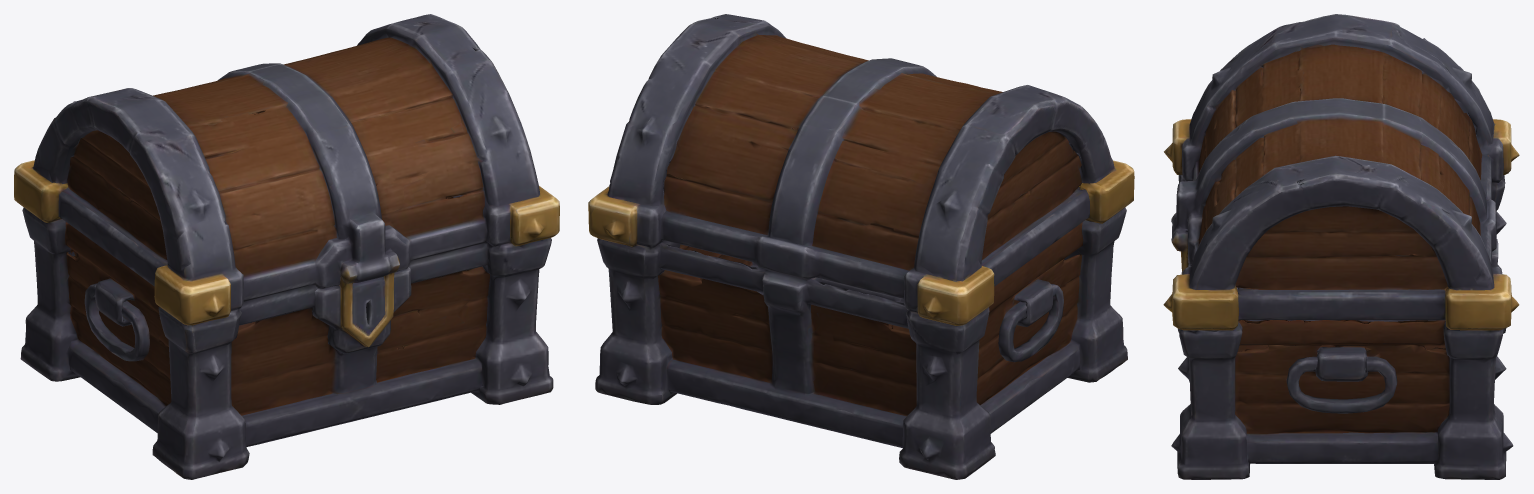
Rendered from Chest.glb.
3 views of the same model, side by side, from view 1: azimuth 30°, elevation 25°; view 2: azimuth 150°, elevation 25°; view 3: azimuth 270°, elevation 25° (orthographic). The views are drawn at different scales.
Visible parts, largest first — view 1: world; view 2: world; view 3: world.
Part boxes in pixels (<box>): world: <box>14,14,559,479</box>; world: <box>588,14,1134,479</box>; world: <box>1163,14,1519,479</box>.
Size of the model in its own units: 1 by 0.7818 by 0.8432.
1 material, 1 textured.
